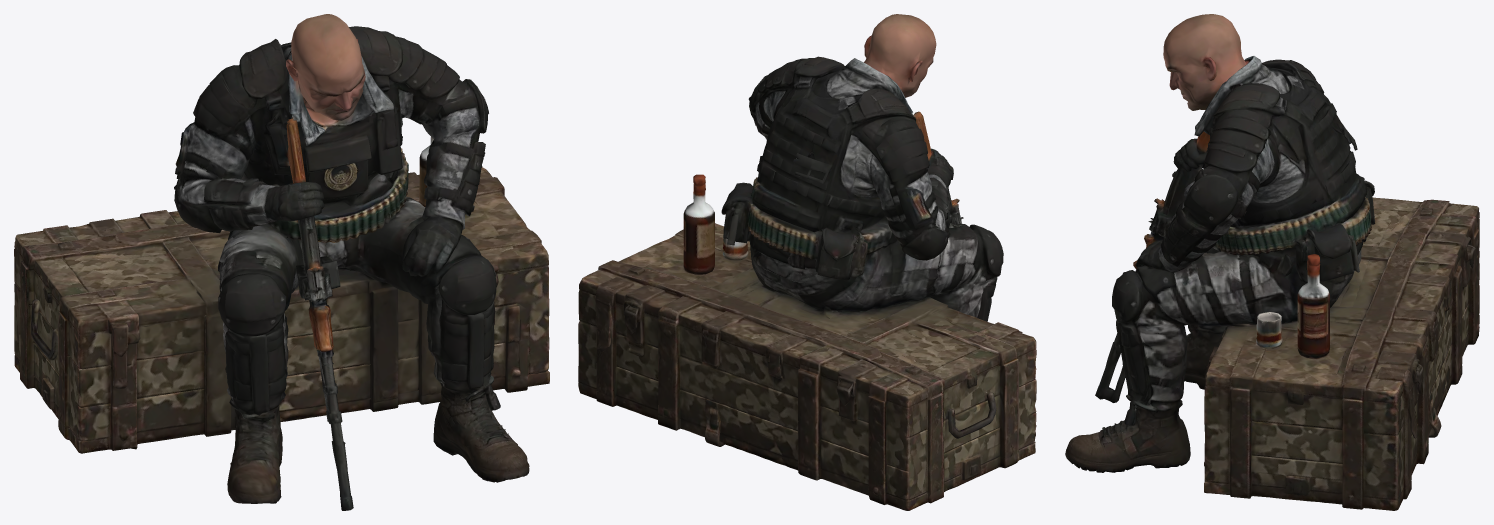
The model's file is kollontay.glb.
3 renders of one model, left to right at view 1: azimuth 30°, elevation 25°; view 2: azimuth 150°, elevation 25°; view 3: azimuth 270°, elevation 25°, orthographic. The views are drawn at different scales.
Parts seen in each view (by area): view 1: tripo_node_ae4acdcc-0ae5-49f7-8445-996f930c8c11; view 2: tripo_node_ae4acdcc-0ae5-49f7-8445-996f930c8c11; view 3: tripo_node_ae4acdcc-0ae5-49f7-8445-996f930c8c11.
Boxes of the visible parts, left/top/right/bottom form: tripo_node_ae4acdcc-0ae5-49f7-8445-996f930c8c11: left=14, top=14, right=549, bottom=510; tripo_node_ae4acdcc-0ae5-49f7-8445-996f930c8c11: left=578, top=14, right=1036, bottom=510; tripo_node_ae4acdcc-0ae5-49f7-8445-996f930c8c11: left=1065, top=14, right=1479, bottom=510.
Size of the model in its own units: 0.9799 by 0.8885 by 0.8361.
1 material, 1 textured.
